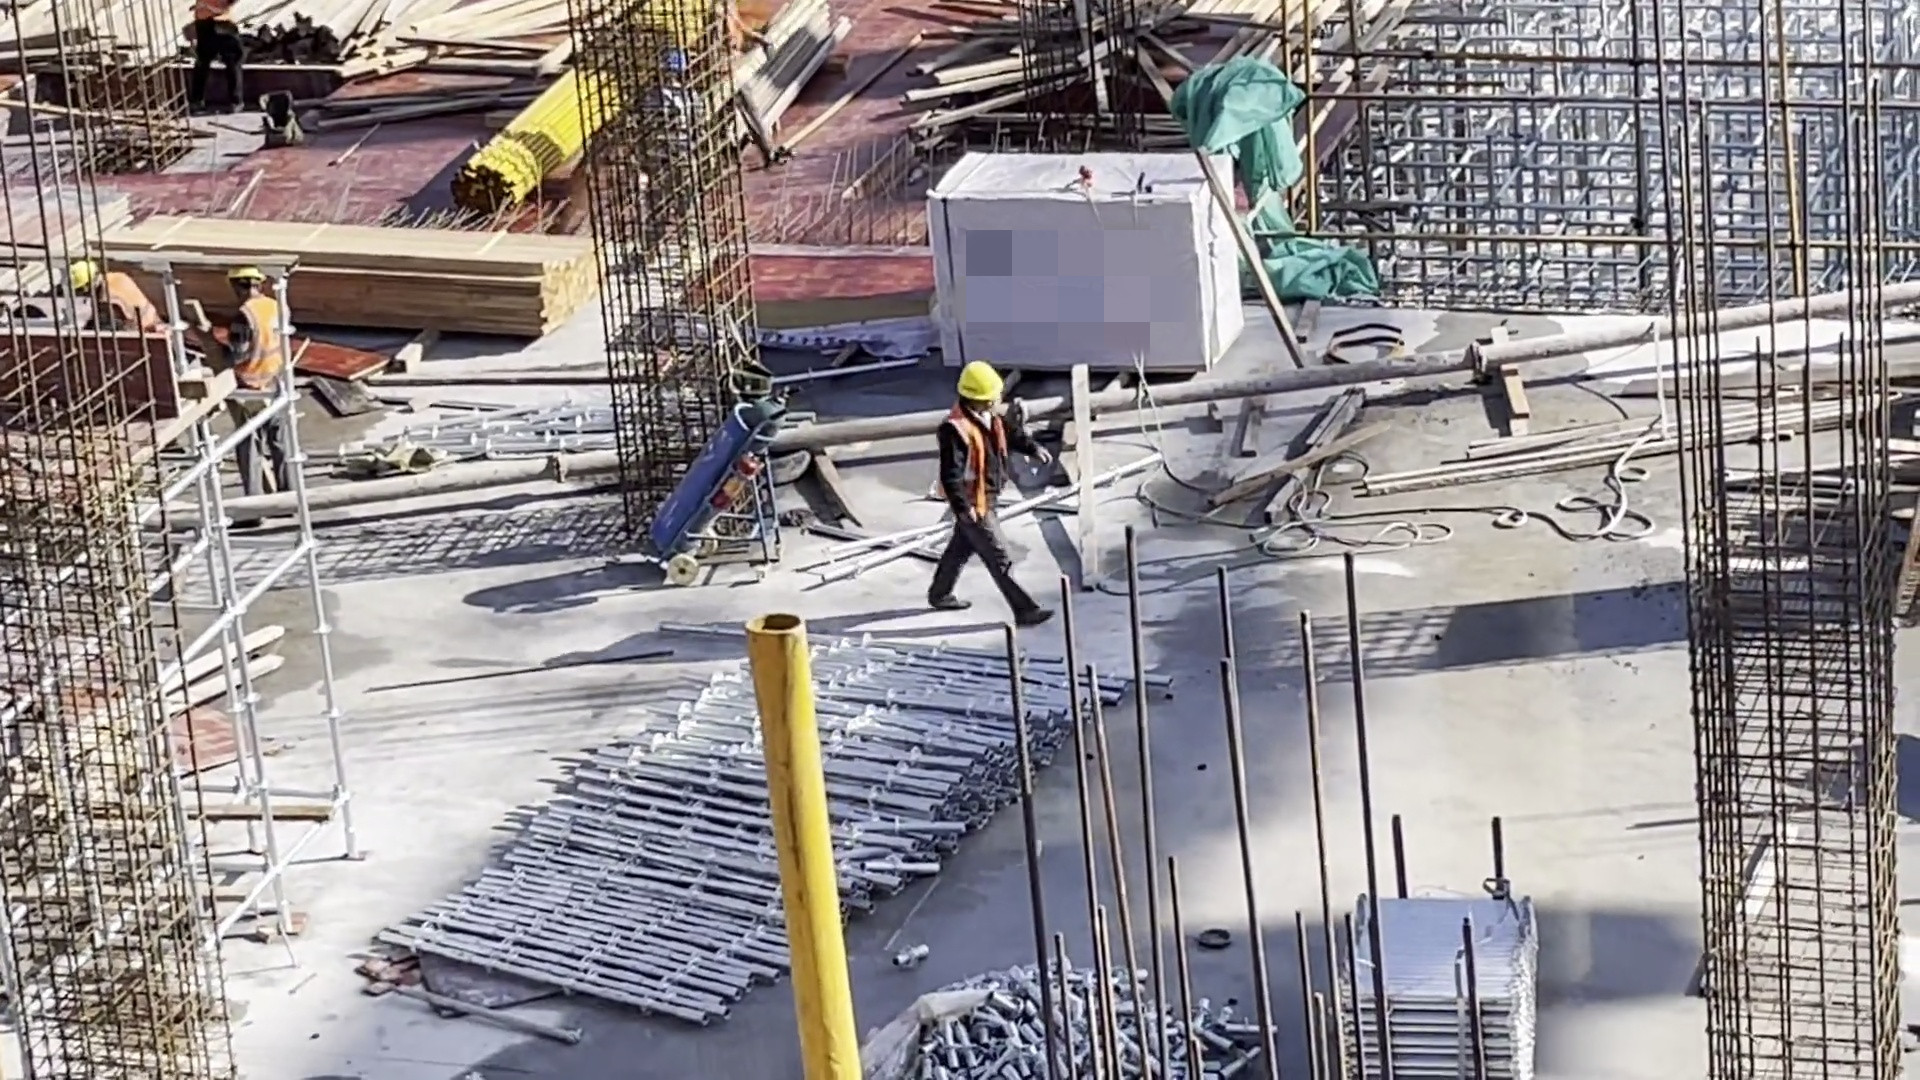helmet: (955, 361, 1003, 403), (67, 259, 95, 292)
person: (930, 354, 1047, 628), (203, 264, 303, 496), (619, 46, 722, 266), (74, 262, 186, 357), (180, 1, 249, 123)
scaffold: (369, 633, 1160, 1020), (1331, 886, 1541, 1080)
vest: (934, 413, 1008, 520), (230, 296, 292, 386), (96, 268, 156, 333), (189, 1, 235, 30)
wood: (301, 209, 603, 344), (273, 1, 619, 64)
